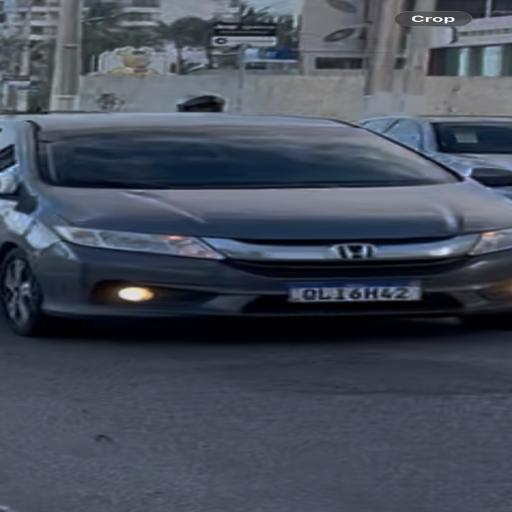detec-o-placas: (245, 268, 460, 322)
